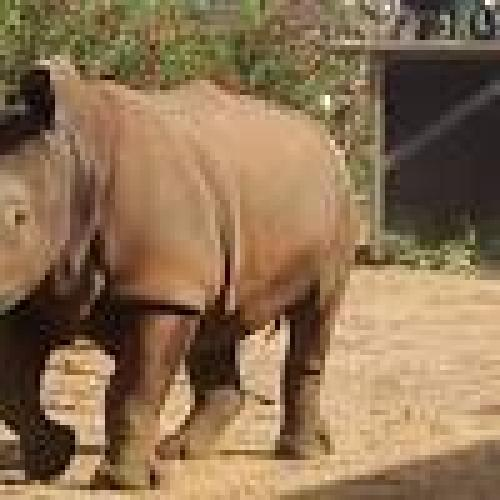rhino-endangered: (0, 57, 363, 491)
